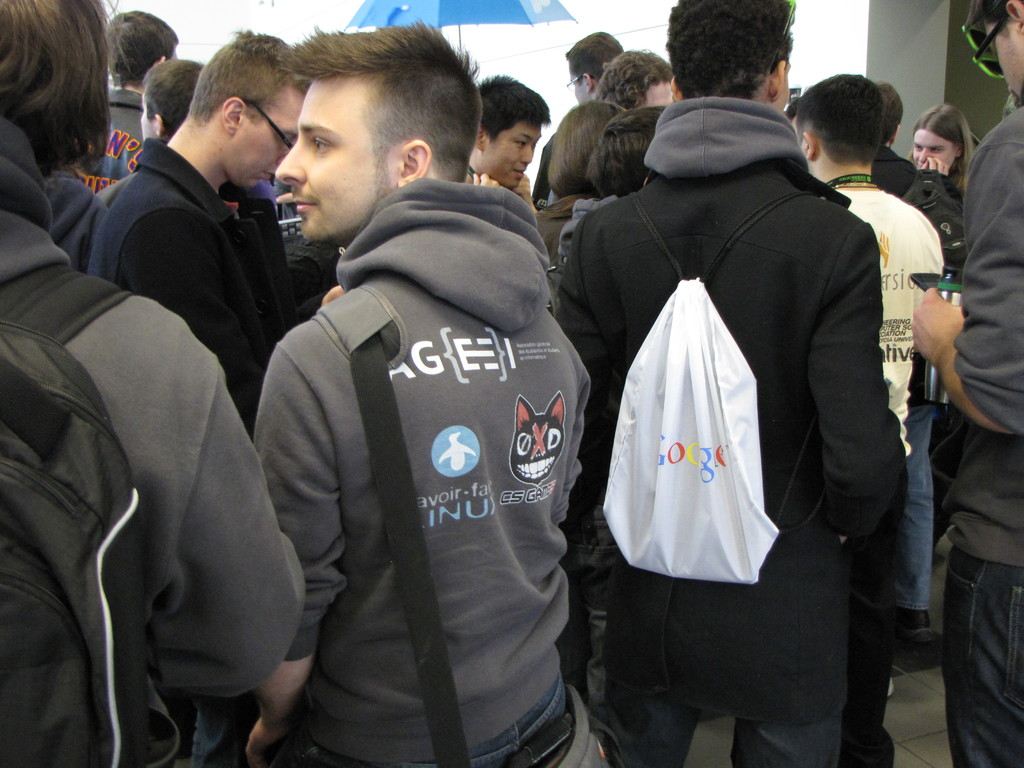person: (535, 100, 668, 310)
